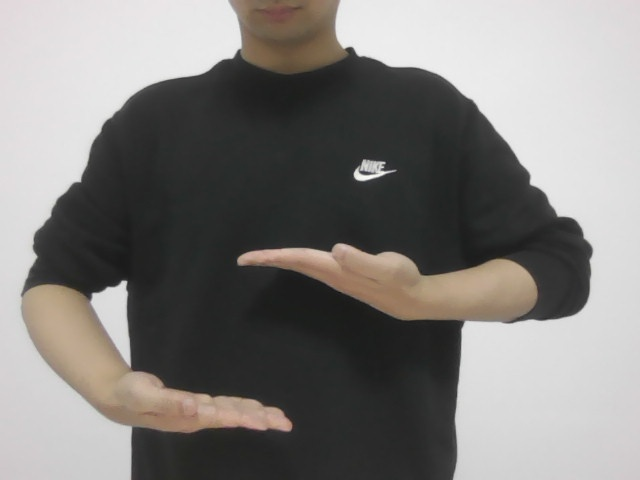happy: (118, 231, 435, 442)
